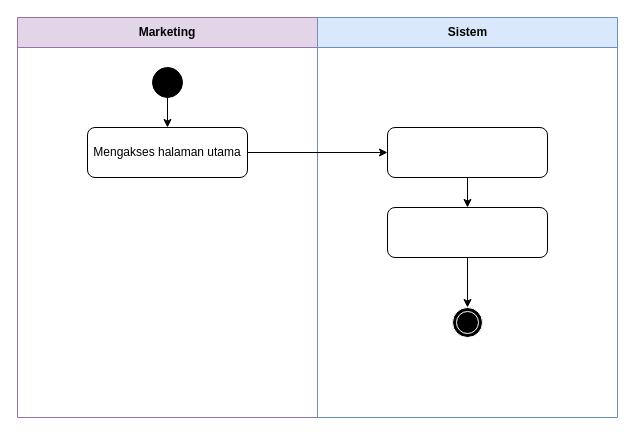
Image size: 635x435. Some labels were removed from this diagram. Here are the shapes that lost their labels. From the top down, the box of each, then its label:
(386, 126, 548, 178): Memuat data ringkasan
(386, 206, 548, 258): Menampilkan Dashboard
